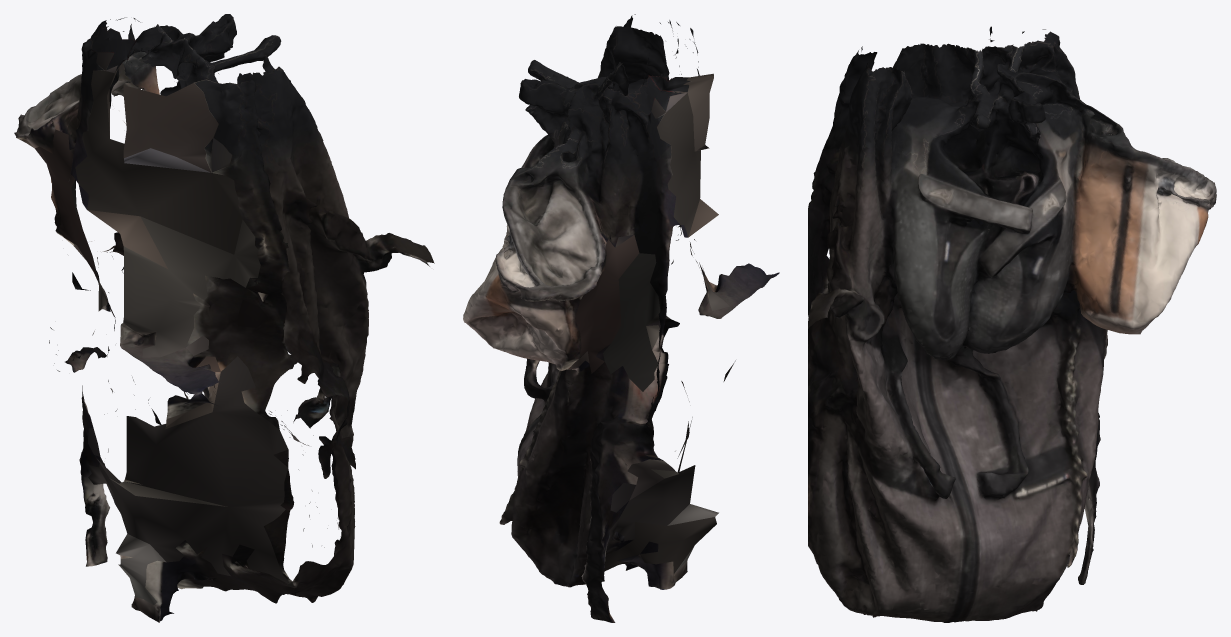
Rendered from climbing-bag.glb.
The picture shows the model from 3 angles, left to right: view 1: azimuth 30°, elevation 25°; view 2: azimuth 150°, elevation 25°; view 3: azimuth 270°, elevation 25°; orthographic projection. The views are drawn at different scales.
Visible parts, largest first — view 1: Mesh_0_Part_0; view 2: Mesh_0_Part_0; view 3: Mesh_0_Part_0.
Boxes of the visible parts, x1,y1,x2,y2 form: Mesh_0_Part_0: (14, 14, 434, 622); Mesh_0_Part_0: (463, 14, 779, 622); Mesh_0_Part_0: (808, 26, 1216, 622).
Size of the model in its own units: 0.2844 by 0.6082 by 0.4124.
Materials: 1 (1 with a texture image).
